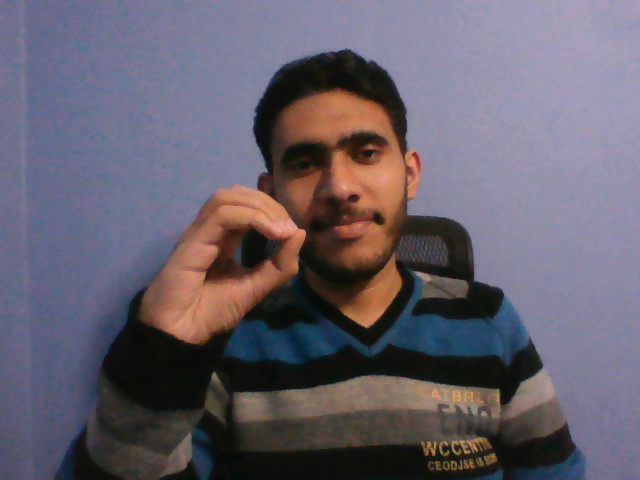O: (131, 177, 308, 349)
